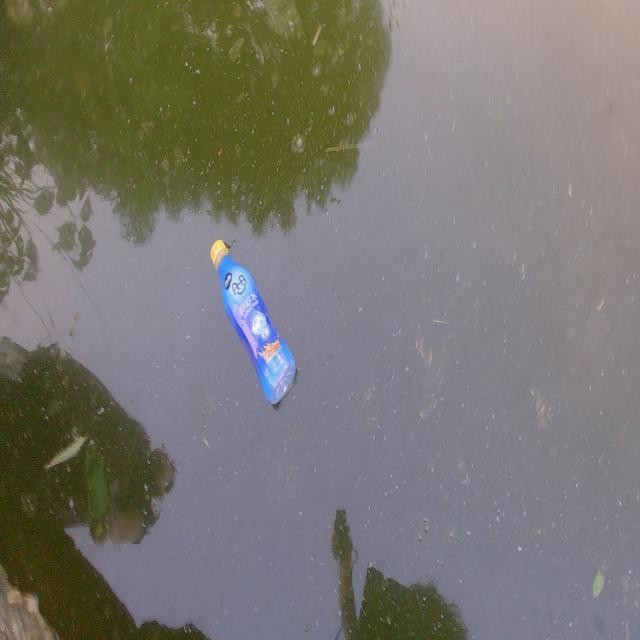bottle: (205, 215, 302, 421)
